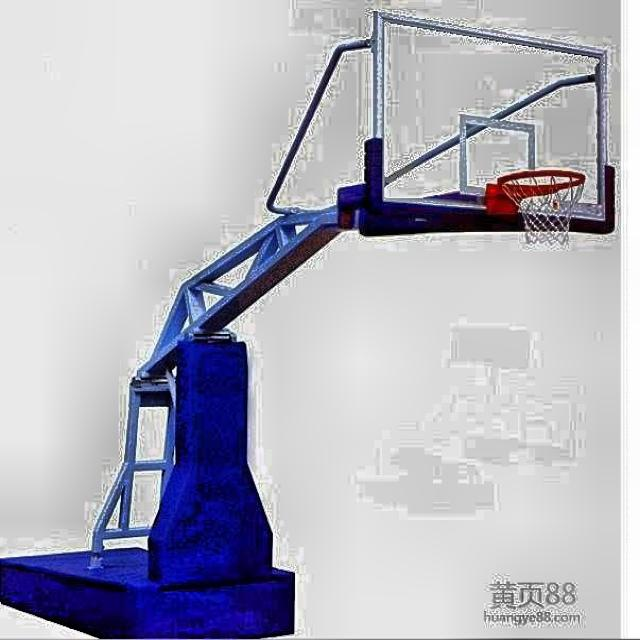rim: (496, 168, 588, 248)
